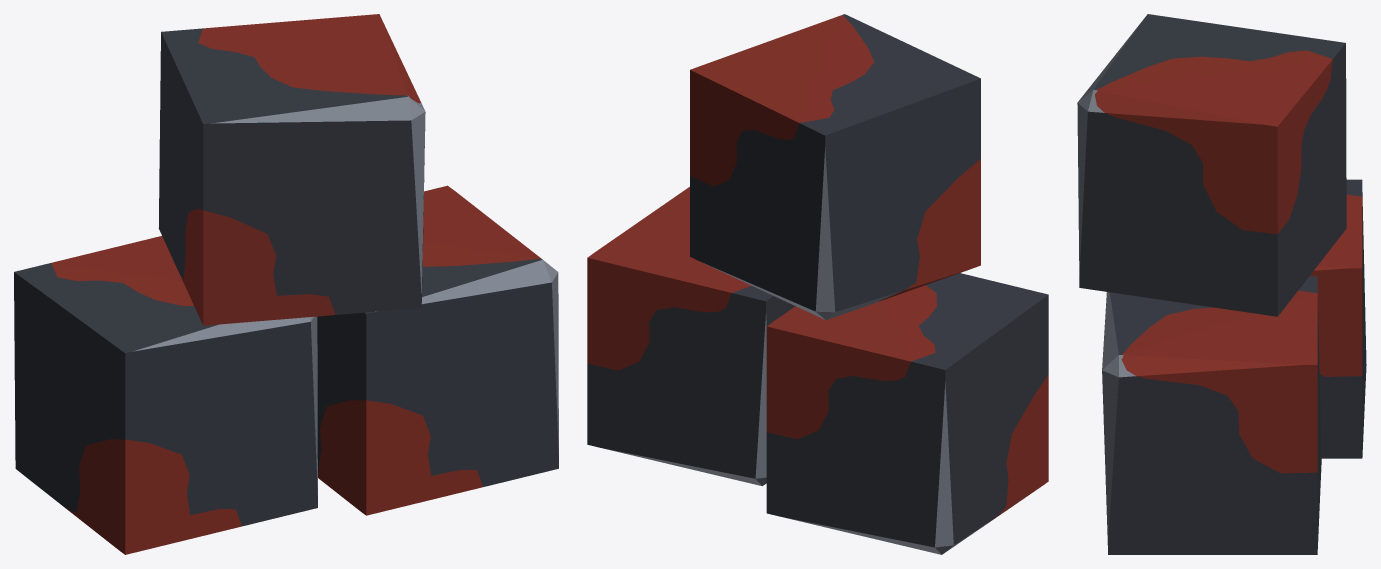
The model's file is Volcanic_stone_revard.fbx.
The picture shows the model from 3 angles, left to right: view 1: azimuth 30°, elevation 25°; view 2: azimuth 150°, elevation 25°; view 3: azimuth 270°, elevation 25°; orthographic projection. The views are drawn at different scales.
Visible parts, largest first — view 1: Cube.015; view 2: Cube.015; view 3: Cube.015.
Part boxes in pixels (bbox=[...]): Cube.015: bbox=[14, 14, 558, 554]; Cube.015: bbox=[587, 14, 1048, 554]; Cube.015: bbox=[1077, 14, 1366, 554].
Bounding box in the file's own units: 0.7052 × 0.4469 × 0.6816.
